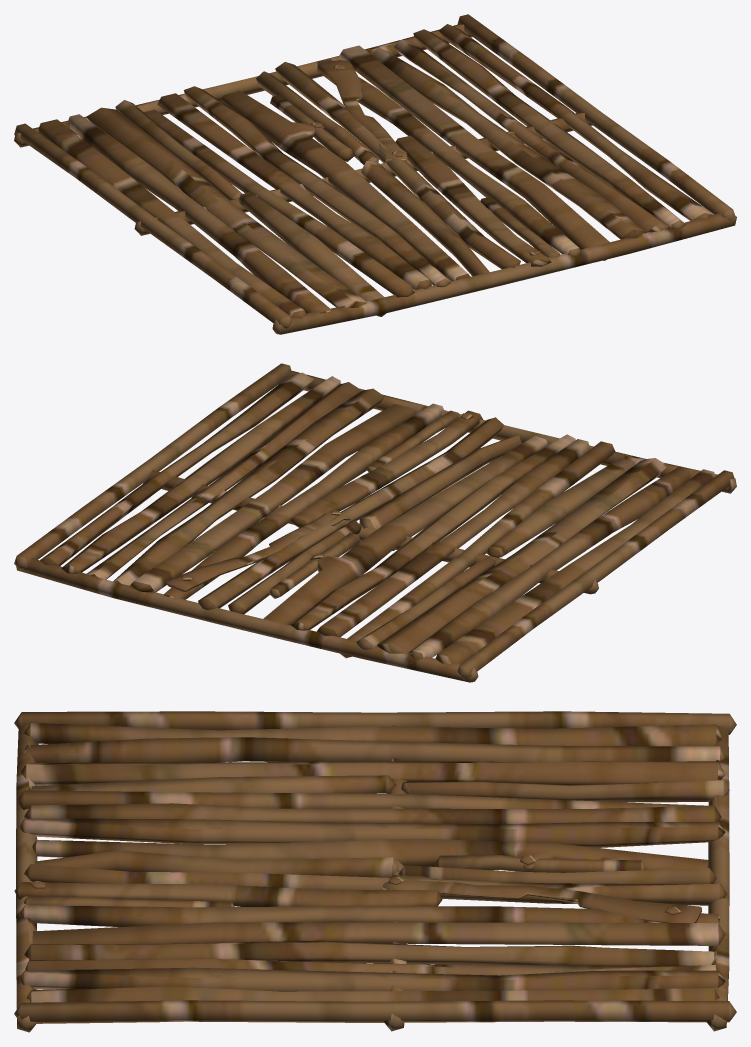
The model's file is floor.glb.
3 renders of one model, top to bottom at view 1: azimuth 30°, elevation 25°; view 2: azimuth 150°, elevation 25°; view 3: azimuth 270°, elevation 25°, orthographic. The views are drawn at different scales.
Visible parts, largest first — view 1: Default__PBWA_W1_Floor_C; view 2: Default__PBWA_W1_Floor_C; view 3: Default__PBWA_W1_Floor_C.
Boxes of the visible parts, <box> form: Default__PBWA_W1_Floor_C: <box>14,14,736,334</box>; Default__PBWA_W1_Floor_C: <box>14,363,736,682</box>; Default__PBWA_W1_Floor_C: <box>14,711,736,1032</box>.
Size of the model in its own units: 5.17 by 0.2809 by 5.22.
1 material, 1 textured.
